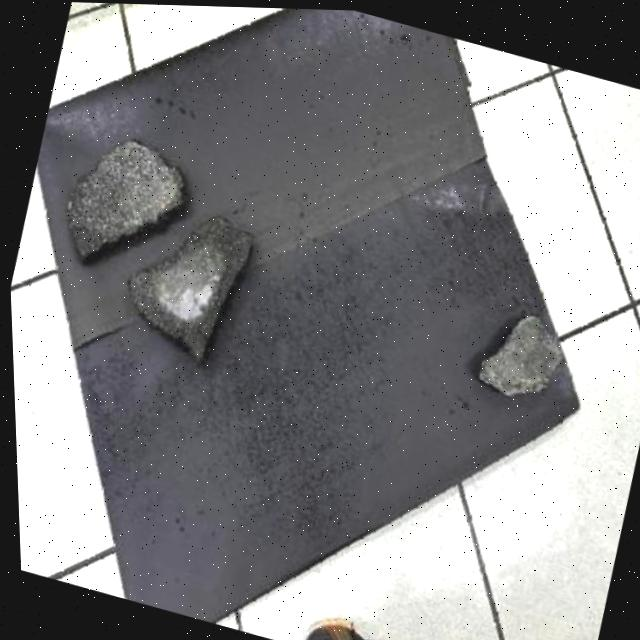Road Debris: (48, 121, 150, 257), (172, 208, 255, 299), (511, 308, 569, 387)
